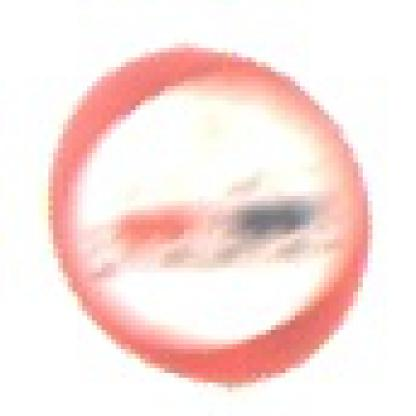No Overtaking: (40, 35, 383, 384)
